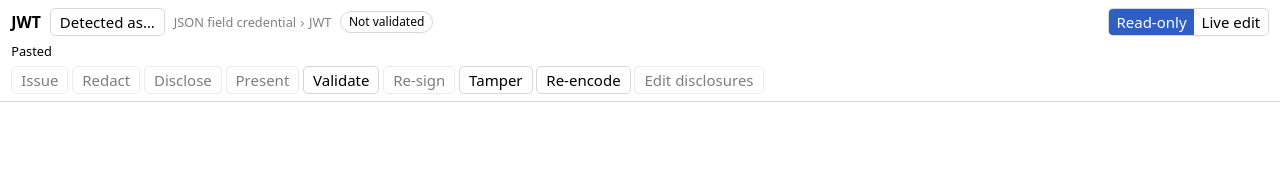
tab header detection info › "Detected as…" lists the candidates and re-opens the input as another
The image size is (1280, 171).
Click the button "Detected as…" at (107, 22), box [50,8,165,36]
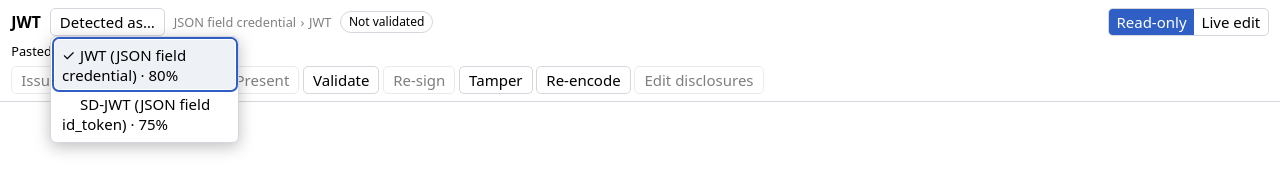
Check: the number of menu items is 2
Check: the menu item "SD-JWT (JSON field id_token) · 75%" is shown
Click the menu item "SD-JWT (JSON field id_token) · 75%" at (145, 114), box [55,89,235,138]
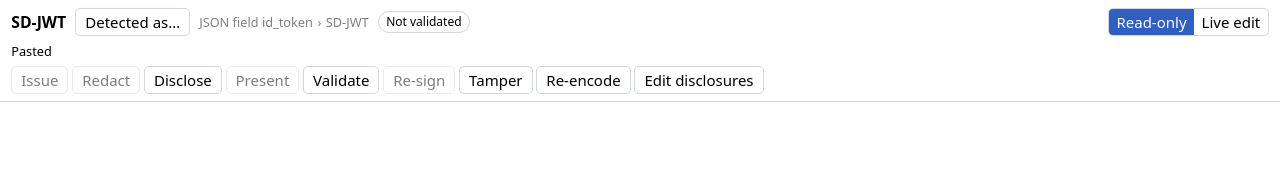
Check: the text with test id "detected-type" reads "SD-JWT", box [11,10,66,32]
Check: the list items read "JSON field id_token", "SD-JWT", in this order, box [199,12,313,30]; [313,12,369,30]
